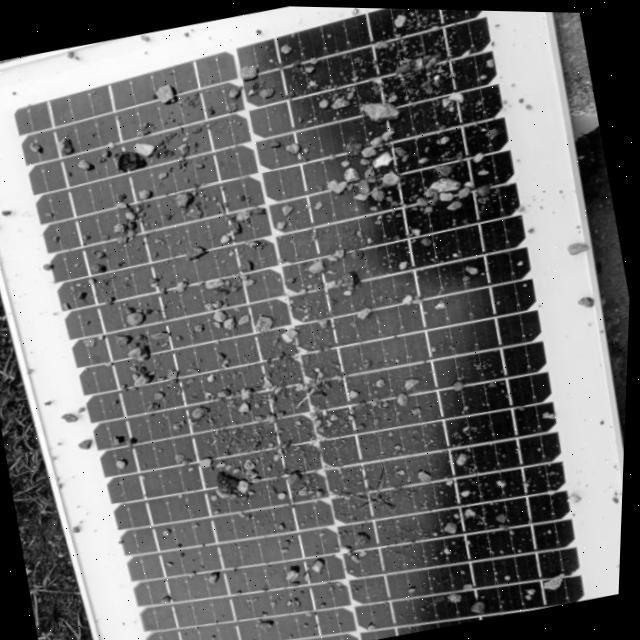Anomaly Solar Panel: (0, 0, 640, 640)
Surface Contaminant: (11, 6, 625, 640)
